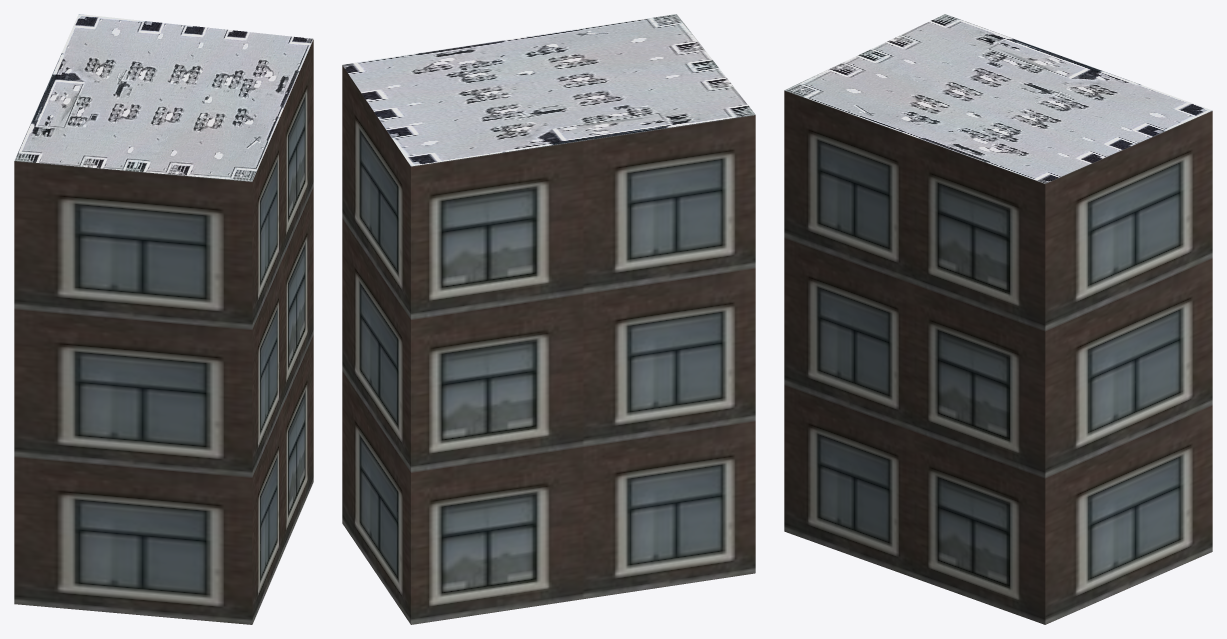
Rendered from ResTex__3739.fbx.
3 renders of one model, left to right at view 1: azimuth 30°, elevation 25°; view 2: azimuth 150°, elevation 25°; view 3: azimuth 270°, elevation 25°, orthographic. The views are drawn at different scales.
Parts seen in each view (by area): view 1: CityEngineMaterial_16_m, CityEngineMaterial_15_m; view 2: CityEngineMaterial_16_m, CityEngineMaterial_15_m; view 3: CityEngineMaterial_16_m, CityEngineMaterial_15_m.
Boxes of the visible parts, x1,y1,x2,y2 form: CityEngineMaterial_16_m: [14, 39, 313, 624]; CityEngineMaterial_15_m: [14, 14, 313, 181]; CityEngineMaterial_16_m: [342, 65, 755, 624]; CityEngineMaterial_15_m: [342, 14, 755, 166]; CityEngineMaterial_16_m: [784, 90, 1212, 624]; CityEngineMaterial_15_m: [784, 14, 1212, 183].
Bounding box in the file's own units: 7.43 × 9 × 7.92.
Materials: 2 (2 with a texture image).
